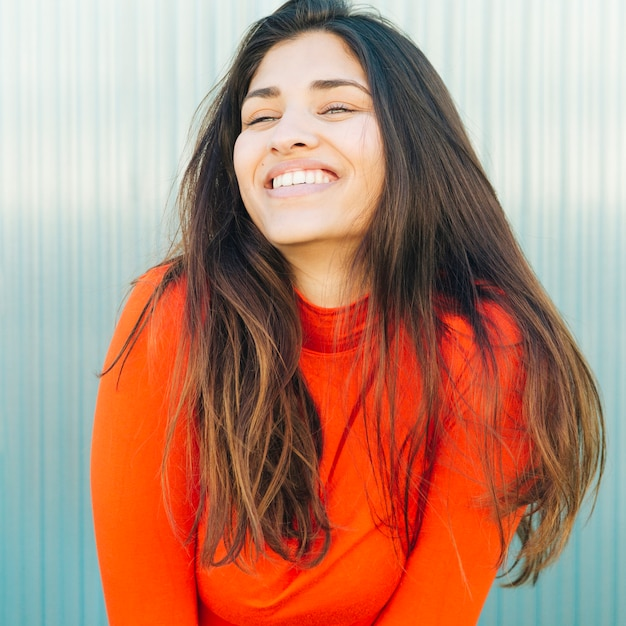teen: (192, 9, 423, 266)
